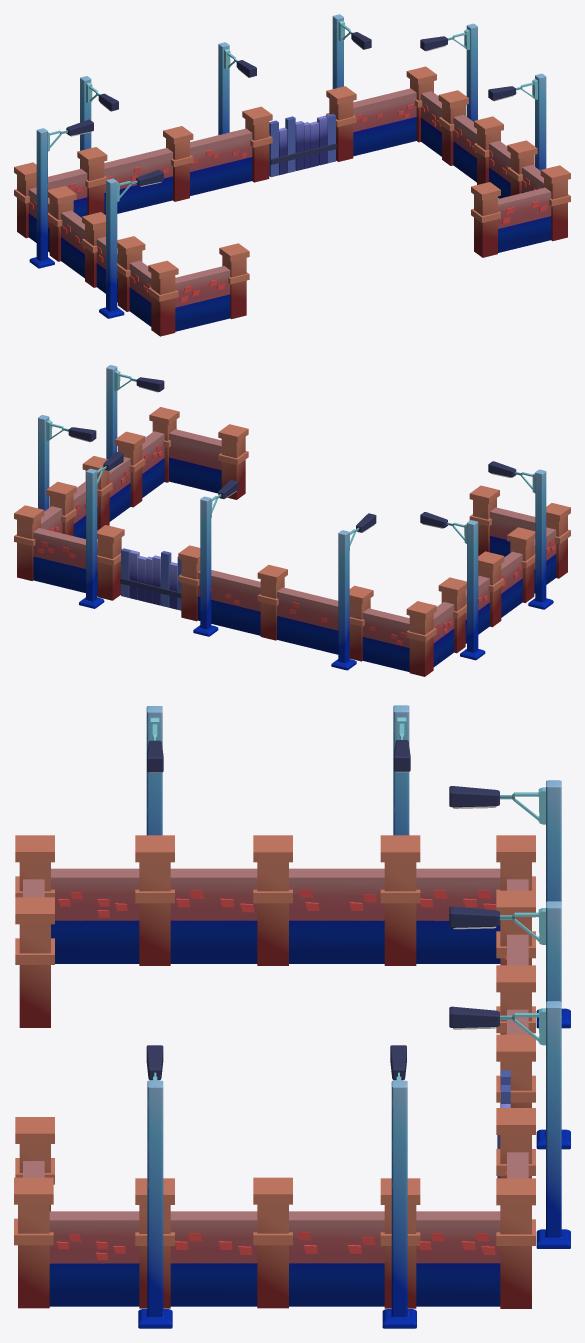
Rendered from cort.fbx.
3 renders of one model, top to bottom at view 1: azimuth 30°, elevation 25°; view 2: azimuth 150°, elevation 25°; view 3: azimuth 270°, elevation 25°, orthographic. The views are drawn at different scales.
Parts seen in each view (by area): view 1: Cube.249, Cube.248, Cube.245, Cube.247, Cube.288, Cube.445, Cube.246, Cube.311, Cube.241, Cube.244, Cube.243, Cube.240 (+42 smaller); view 2: Cube.249, Cube.248, Cube.245, Cube.247, Cube.292, Cube.288, Cube.445, Cube.307, Cube.304, Cube.246, Cube.243, Cube.244 (+40 smaller); view 3: Cube.245, Cube.247, Cube.244, Cube.246, Cube.301, Cube.295, Cube.304, Cube.311, Cube.264, Cube.258, Cube.260, Cube.256 (+30 smaller).
Boxes of the visible parts, left/top/right/bottom form: Cube.249: left=48, top=88, right=416, bottom=199; Cube.248: left=73, top=117, right=416, bottom=217; Cube.245: left=421, top=91, right=543, bottom=192; Cube.247: left=28, top=187, right=151, bottom=302; Cube.288: left=99, top=178, right=124, bottom=318; Cube.445: left=29, top=128, right=54, bottom=268; Cube.246: left=28, top=213, right=151, bottom=326; Cube.311: left=30, top=104, right=547, bottom=302; Cube.241: left=175, top=266, right=230, bottom=307; Cube.244: left=421, top=118, right=523, bottom=198; Cube.243: left=498, top=187, right=551, bottom=228; Cube.240: left=175, top=294, right=230, bottom=331; Cube.249: left=33, top=528, right=409, bottom=647; Cube.248: left=33, top=556, right=409, bottom=671; Cube.245: left=41, top=431, right=164, bottom=533; Cube.247: left=433, top=527, right=556, bottom=642; Cube.292: left=331, top=530, right=356, bottom=670; Cube.288: left=528, top=469, right=553, bottom=609; Cube.445: left=460, top=520, right=485, bottom=660; Cube.307: left=193, top=496, right=218, bottom=636; Cube.304: left=79, top=468, right=104, bottom=608; Cube.246: left=433, top=554, right=556, bottom=666; Cube.243: left=169, top=429, right=221, bottom=470; Cube.244: left=73, top=458, right=164, bottom=538; Cube.245: left=49, top=1211, right=500, bottom=1263; Cube.247: left=51, top=868, right=500, bottom=920; Cube.244: left=49, top=1263, right=500, bottom=1306; Cube.246: left=51, top=920, right=500, bottom=963; Cube.301: left=382, top=1080, right=416, bottom=1328; Cube.295: left=138, top=1080, right=172, bottom=1328; Cube.304: left=536, top=1001, right=570, bottom=1248; Cube.311: left=56, top=889, right=506, bottom=1260; Cube.264: left=384, top=862, right=416, bottom=965; Cube.258: left=18, top=1204, right=49, bottom=1308; Cube.260: left=257, top=1204, right=288, bottom=1308; Cube.256: left=500, top=1205, right=531, bottom=1308.
Bounding box in the file's own units: 10695 × 3049 × 6458.
11 materials, 5 textured.
